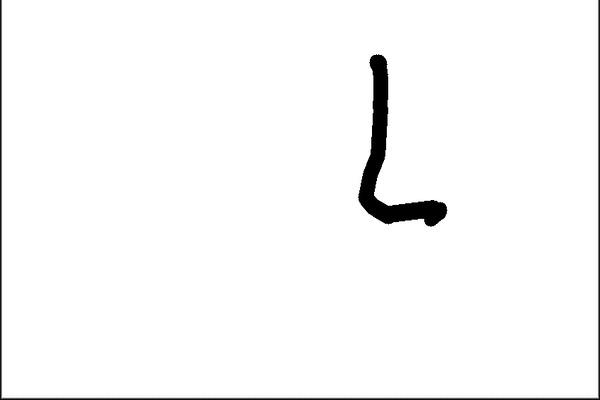L: (350, 45, 453, 230)
